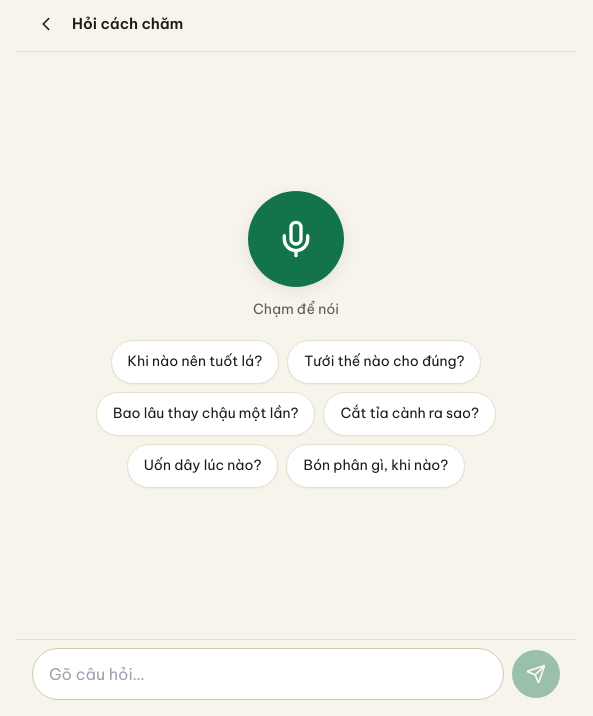
Trợ lý chăm cây › asks a question and gets the AI answer after the offline one
The width and height of the screenshot is (593, 716).
Type "Khi nào tuốt lá?" into the field labelled "câu hỏi" at (268, 674), box [32,648,504,700]
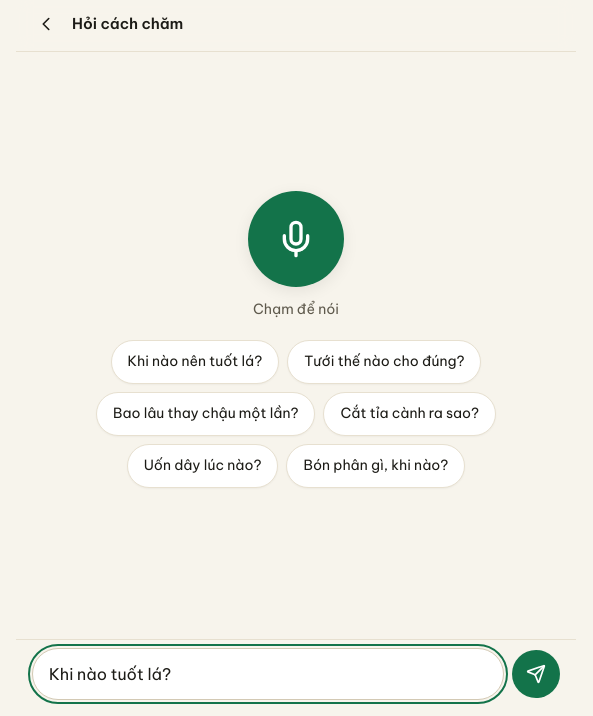
Click the button named "Gửi" at (536, 674), box [512,650,560,698]
Wait 3000 ms
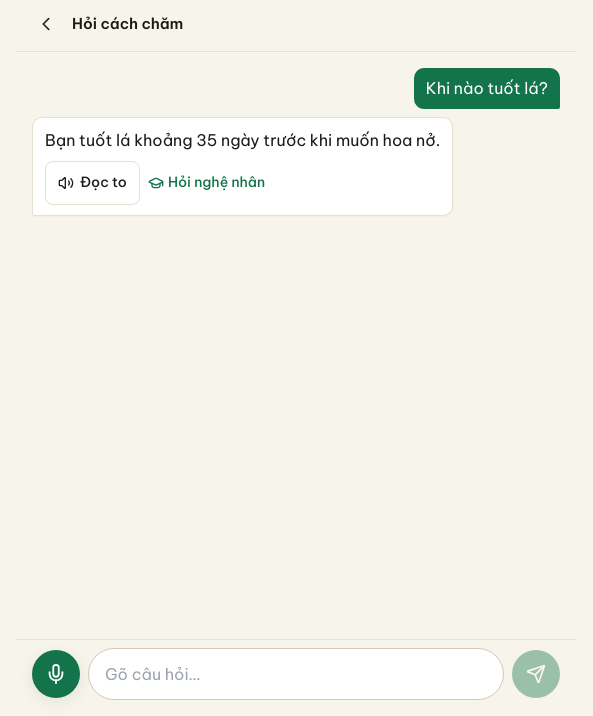
Result: the text "Bạn tuốt lá khoảng 35 ngày trước khi muốn hoa nở." is shown at [45,128,440,153]
Result: the link "Hỏi nghệ nhân" is shown at [148,173,265,191]
